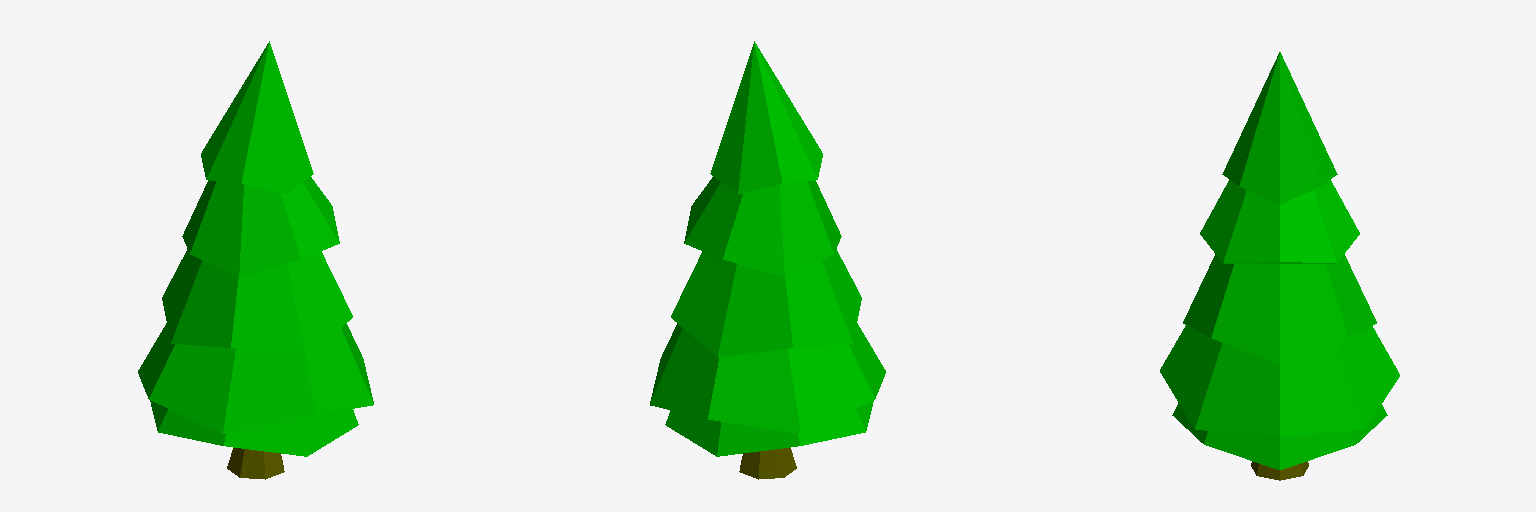
File: low-poly-pinetree.obj
3 views of the same model, side by side, from view 1: azimuth 30°, elevation 25°; view 2: azimuth 150°, elevation 25°; view 3: azimuth 270°, elevation 25° (orthographic).
Size of the model in its own units: 232 by 438 by 226.